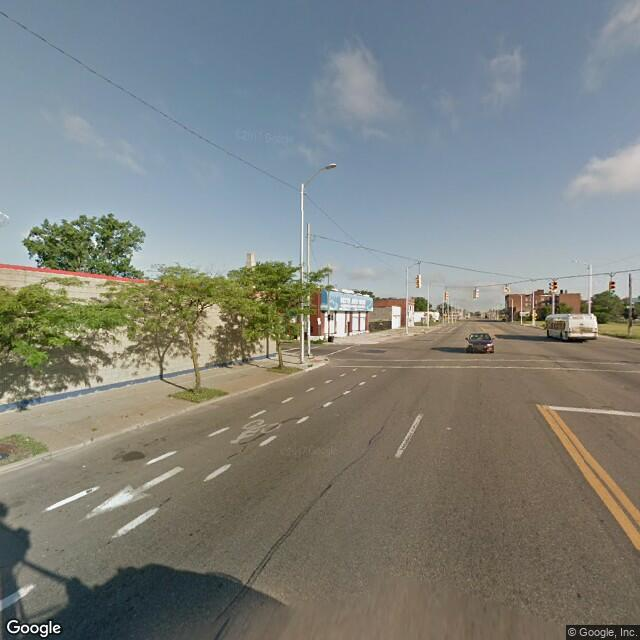litter: (25, 436, 28, 444)
